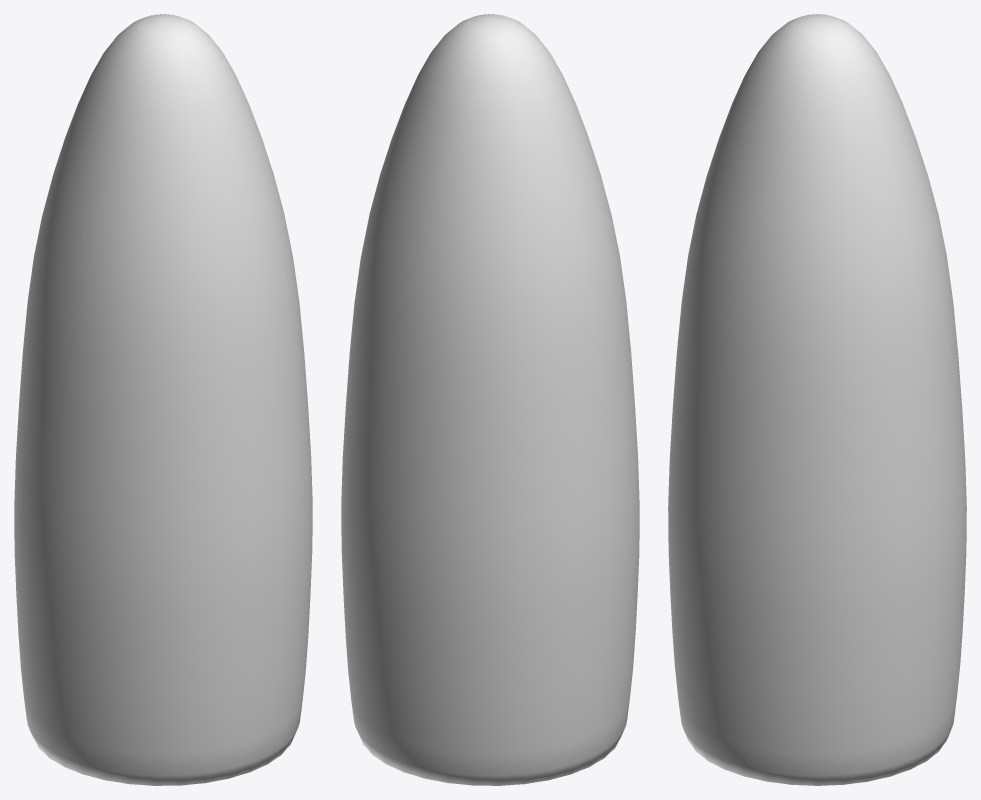
File: Corn_Inner.fbx
The picture shows the model from 3 angles, left to right: view 1: azimuth 30°, elevation 25°; view 2: azimuth 150°, elevation 25°; view 3: azimuth 270°, elevation 25°; orthographic projection.
Visible parts, largest first — view 1: Cylinder.001; view 2: Cylinder.001; view 3: Cylinder.001.
Boxes of the visible parts, box(x1,y1,x2,y2) form: Cylinder.001: box(14, 14, 312, 785); Cylinder.001: box(341, 14, 639, 785); Cylinder.001: box(668, 14, 966, 785).
Bounding box in the file's own units: 535 × 1422 × 535.
